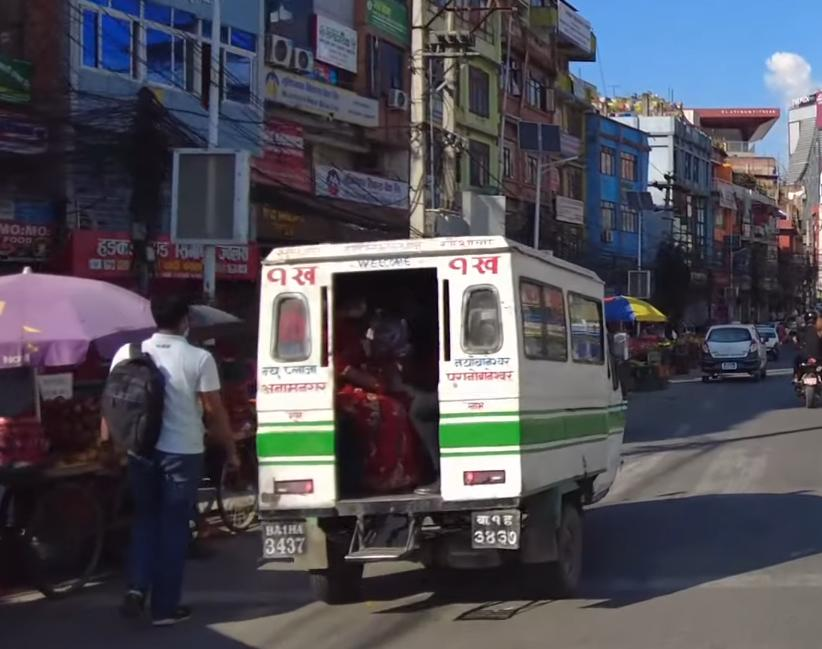bike: (788, 333, 822, 408)
taxi: (698, 321, 775, 386)
tempo: (235, 223, 642, 613)
